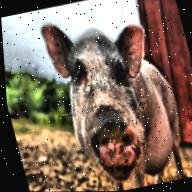boar: (35, 2, 192, 192)
